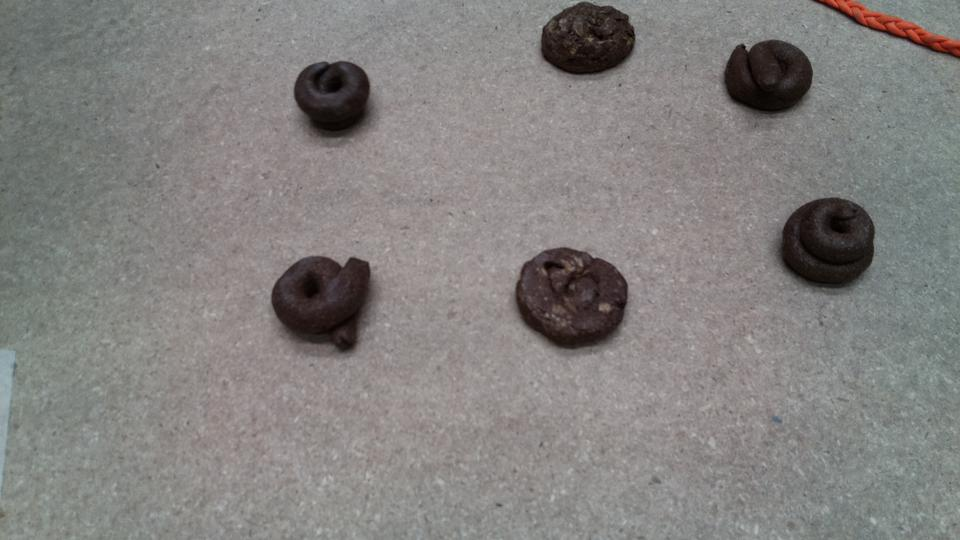poop: (509, 242, 634, 351), (266, 250, 379, 357), (774, 194, 882, 288), (535, 1, 642, 79), (286, 53, 383, 136), (723, 37, 817, 114)
